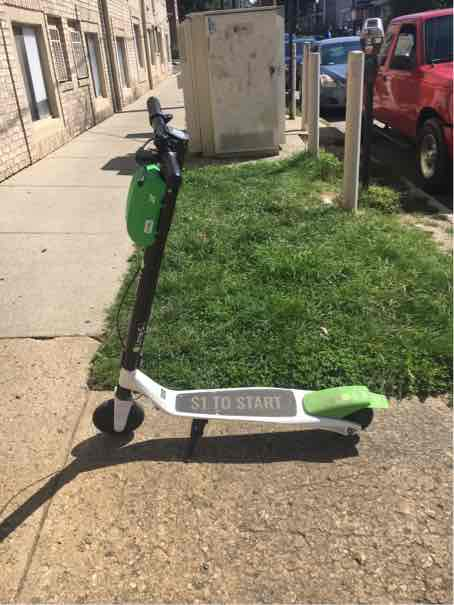scooter: (79, 88, 393, 454)
